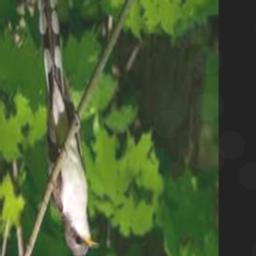Cuckoo: (36, 0, 98, 256)
